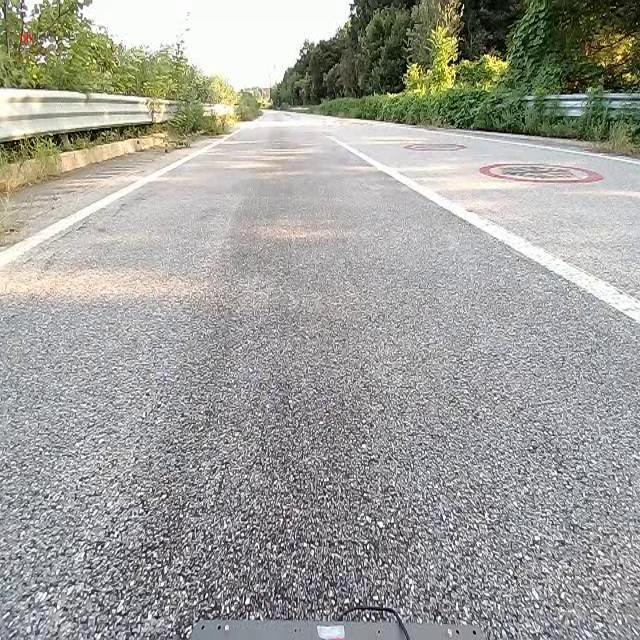Lane: (322, 118, 640, 322), (331, 138, 639, 324), (0, 113, 252, 280), (0, 130, 238, 268)
